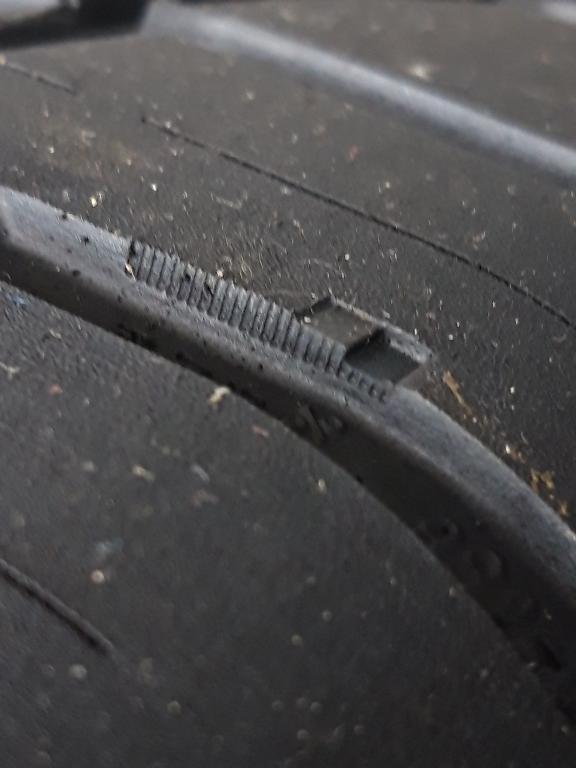temoin:25: (273, 286, 442, 418)
